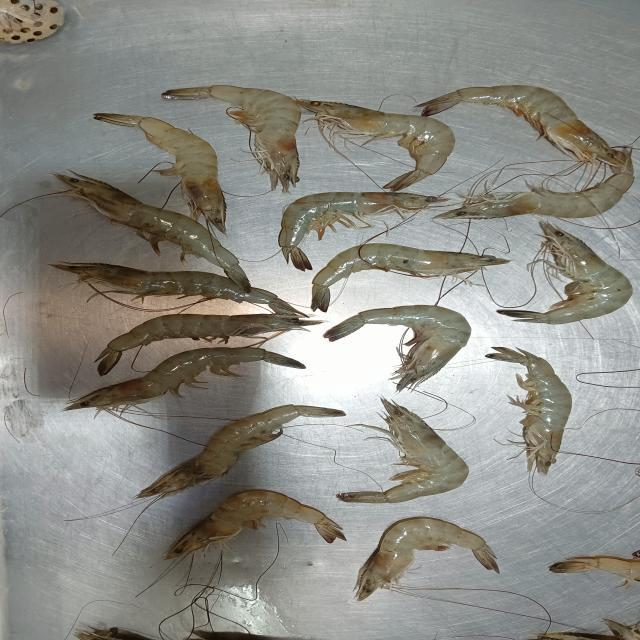shrimp: (53, 173, 248, 288), (138, 405, 343, 497), (417, 85, 632, 169), (65, 346, 304, 411), (94, 114, 226, 231), (294, 99, 454, 190), (163, 86, 299, 191), (500, 221, 632, 323), (312, 243, 508, 311), (339, 399, 467, 503), (324, 305, 470, 390), (96, 315, 312, 372), (433, 158, 633, 219), (279, 192, 429, 270), (356, 517, 498, 599), (168, 490, 343, 556), (55, 262, 293, 307), (487, 347, 571, 474), (550, 555, 639, 583), (532, 620, 639, 639), (76, 628, 148, 639)
